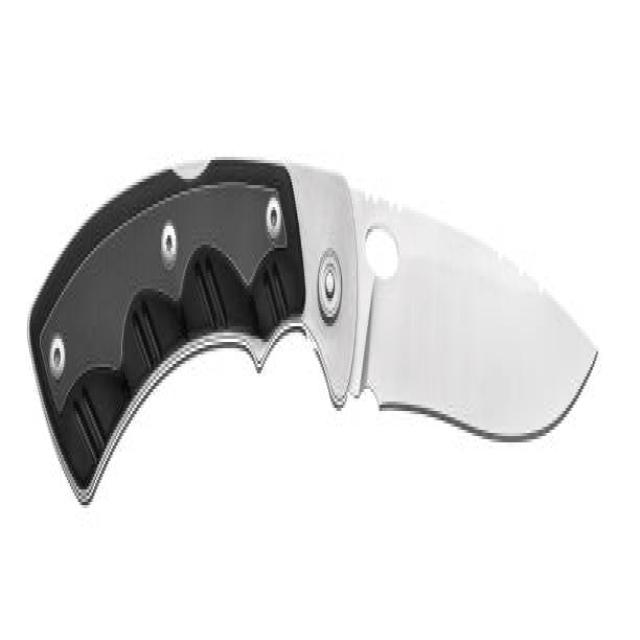knife: (25, 138, 601, 509)
